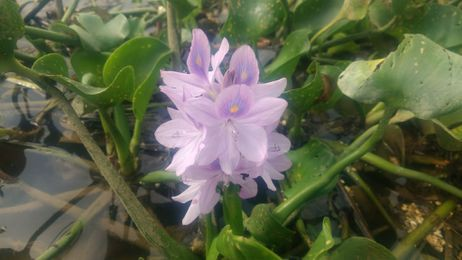water_hyacinth: (1, 1, 462, 260)
